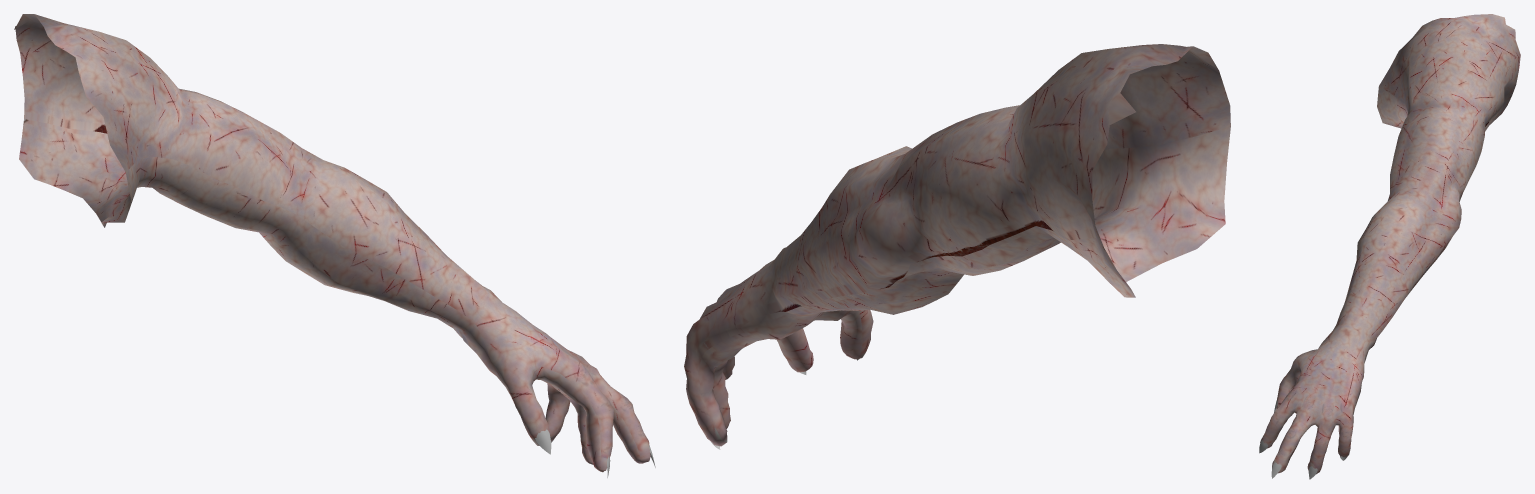
File: DemonArm.fbx
The picture shows the model from 3 angles, left to right: view 1: azimuth 30°, elevation 25°; view 2: azimuth 150°, elevation 25°; view 3: azimuth 270°, elevation 25°; orthographic projection. The views are drawn at different scales.
Parts seen in each view (by area): view 1: FPSArms_Rig:DemonArm_L; view 2: FPSArms_Rig:DemonArm_L; view 3: FPSArms_Rig:DemonArm_L.
Boxes of the visible parts, box(x1,y1,x2,y2) form: FPSArms_Rig:DemonArm_L: box(14, 14, 655, 477); FPSArms_Rig:DemonArm_L: box(684, 44, 1230, 449); FPSArms_Rig:DemonArm_L: box(1259, 14, 1520, 479).
Bounding box in the file's own units: 68.85 × 64.56 × 47.79.
